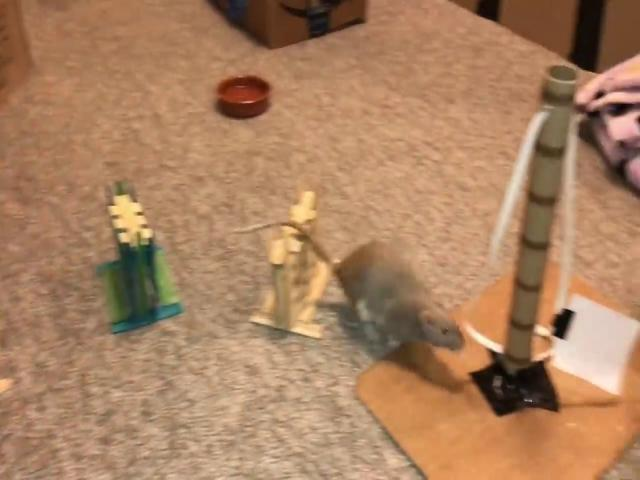Tikus: (236, 224, 464, 354)
